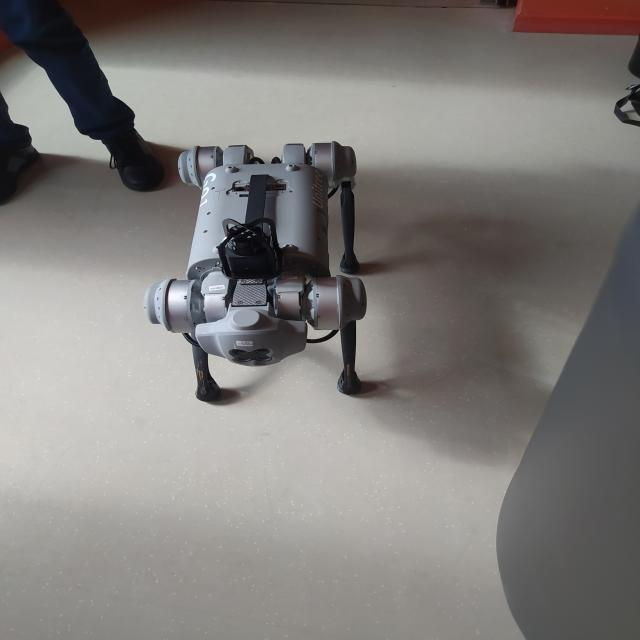unitree-go1-robot: (139, 132, 400, 416)
